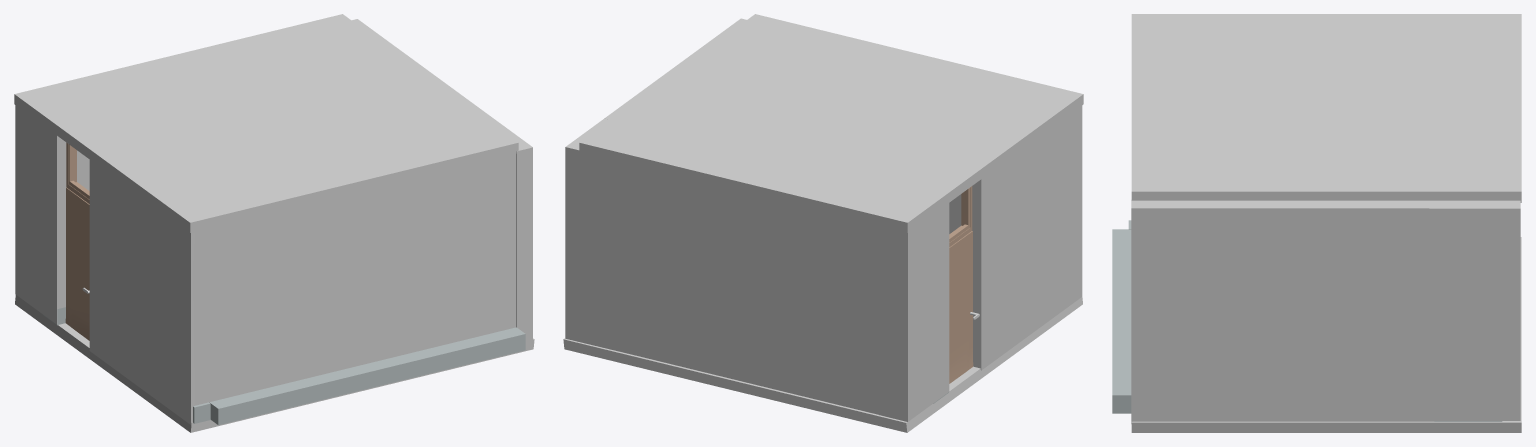
The picture shows the model from 3 angles, left to right: view 1: azimuth 30°, elevation 25°; view 2: azimuth 150°, elevation 25°; view 3: azimuth 270°, elevation 25°; orthographic projection. The views are drawn at different scales.
Parts seen in each view (by area): view 1: Walls, Floor, Door, Window; view 2: Walls, Door, Window; view 3: Walls, Floor.
Part boxes in pixels (x1,y1,x2,y2): Walls: (14,14,534,432); Floor: (42,307,525,425); Door: (65,187,89,340); Window: (66,142,89,203); Walls: (563,14,1083,432); Door: (949,231,973,383); Window: (949,186,972,247); Walls: (1131,14,1521,432); Floor: (1112,220,1502,421).
Bounding box in the file's own units: 10.62 × 6.2 × 9.86.
